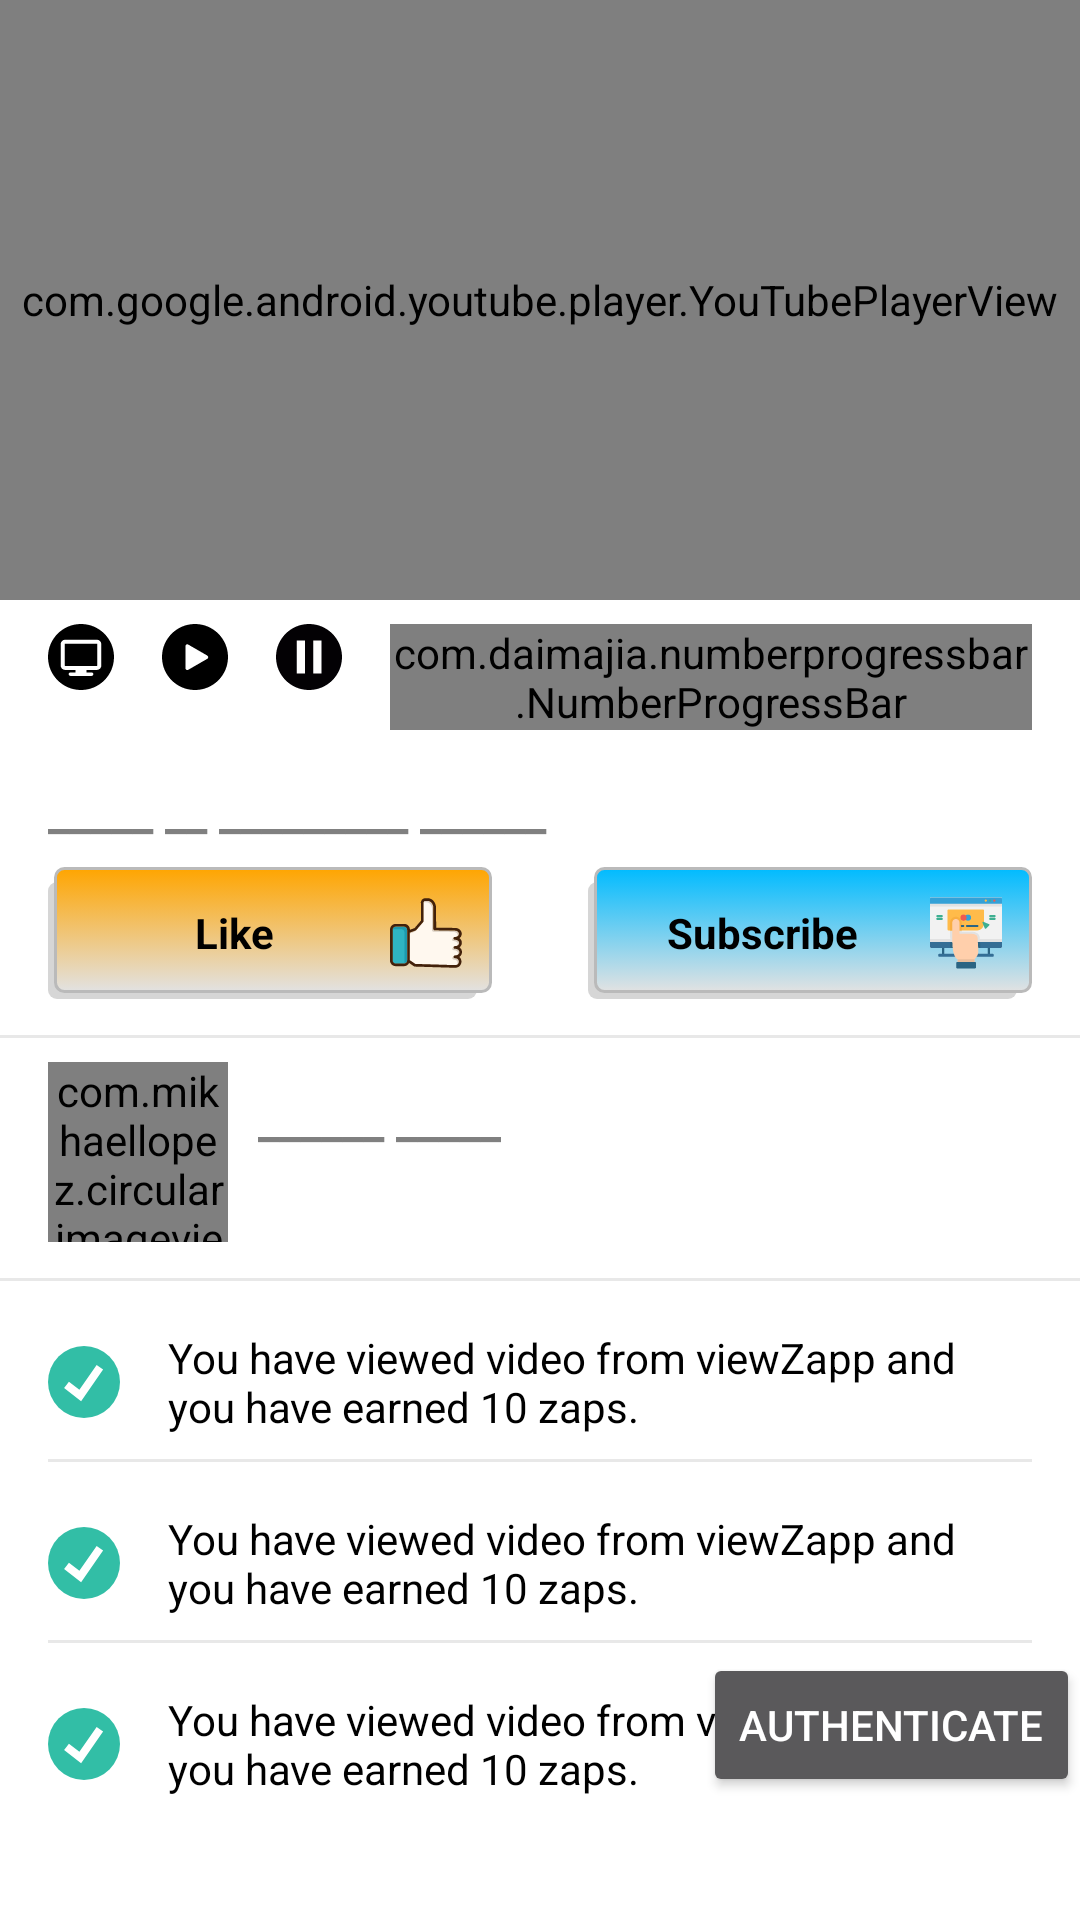

Where icons sit on this 1080px x 1920px app screen, as (x1, y1, x2, y2):
initialize video: (48, 624, 114, 690)
pause: (276, 624, 342, 690)
